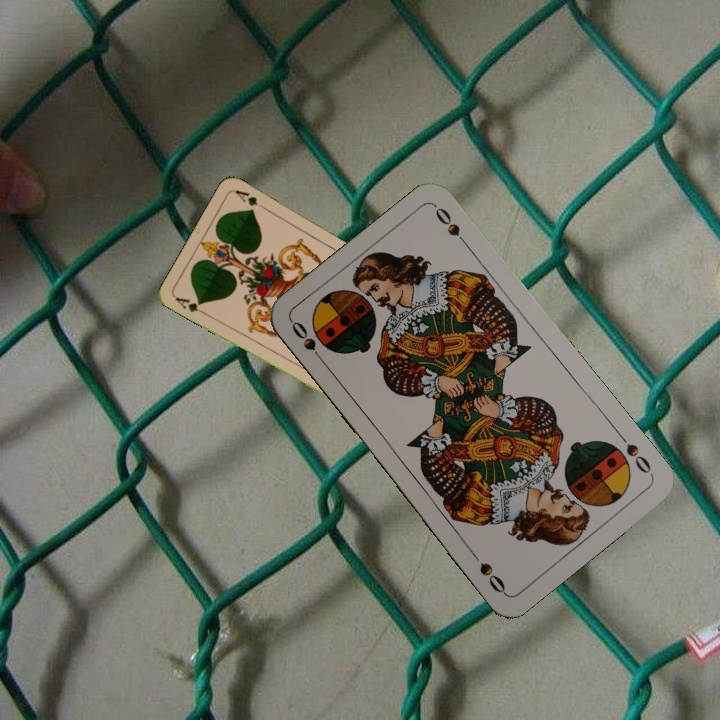GA: (171, 293, 209, 317)
SO: (613, 428, 656, 478), (287, 317, 329, 368)
